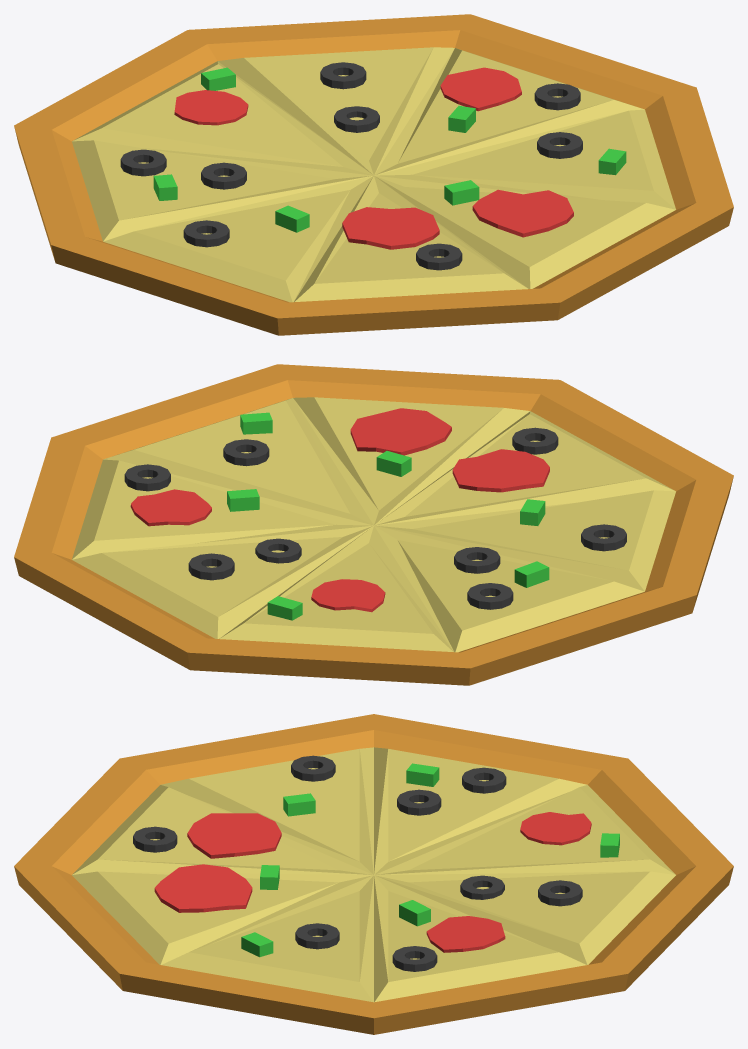
The model's file is tower_pizza.glb.
3 renders of one model, top to bottom at view 1: azimuth 30°, elevation 25°; view 2: azimuth 150°, elevation 25°; view 3: azimuth 270°, elevation 25°, orthographic. The views are drawn at different scales.
Parts seen in each view (by area): view 1: Circle; view 2: Circle; view 3: Circle.
Boxes of the visible parts, bbox=[...] form: Circle: bbox=[14, 14, 733, 335]; Circle: bbox=[14, 364, 733, 685]; Circle: bbox=[14, 714, 733, 1034].
Size of the model in its own units: 2.03 by 0.0919 by 2.03.
